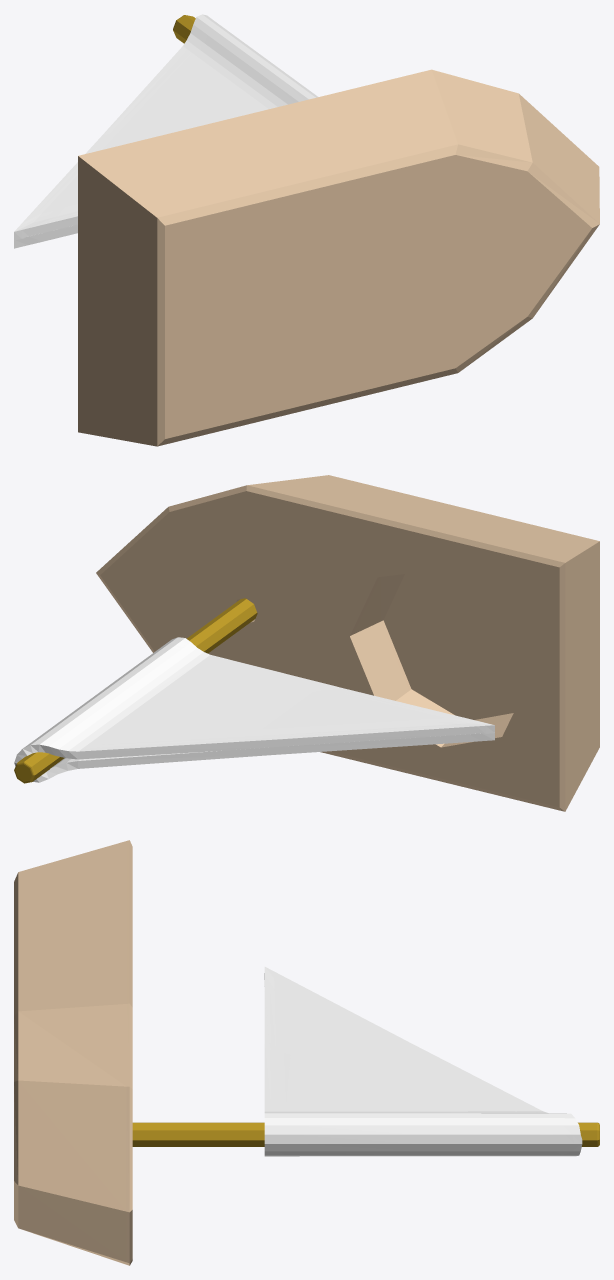
File: boat.gltf
The picture shows the model from 3 angles, top to bottom: view 1: azimuth 30°, elevation 25°; view 2: azimuth 150°, elevation 25°; view 3: azimuth 270°, elevation 25°; orthographic projection. The views are drawn at different scales.
Visible parts, largest first — view 1: boat_body, sail; view 2: boat_body, sail, mast; view 3: boat_body, sail, mast.
Boxes of the visible parts, x1,y1,x2,y2 form: boat_body: [78, 69, 599, 446]; sail: [14, 14, 318, 248]; boat_body: [96, 475, 599, 811]; sail: [14, 637, 494, 782]; mast: [14, 598, 257, 783]; boat_body: [14, 840, 132, 1265]; sail: [264, 967, 582, 1156]; mast: [132, 1122, 599, 1146].
Bounding box in the file's own units: 249 × 126 × 256.
